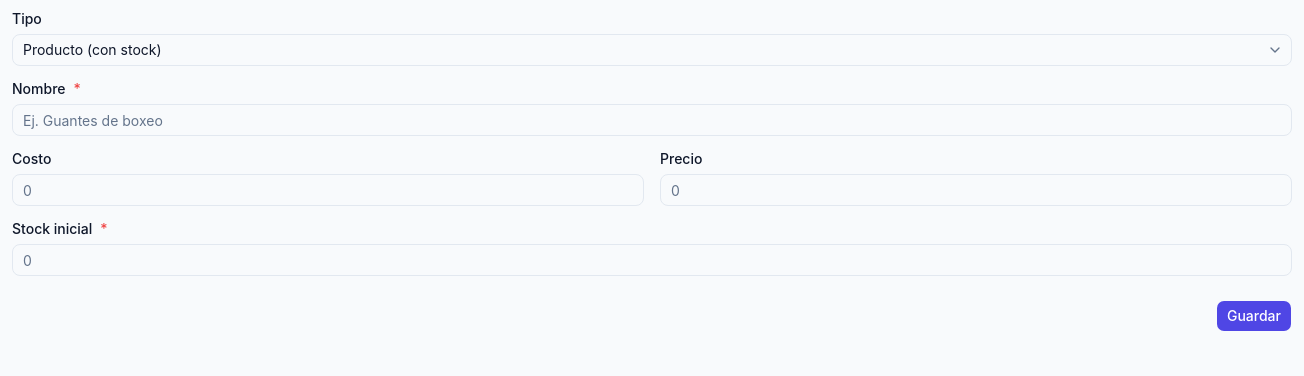
Scenario: InventoryForm — validación › bloquea el submit si falta el nombre
Type "5000" into the field labelled "Costo" at coordinates (328, 190), box [12,174,644,206]
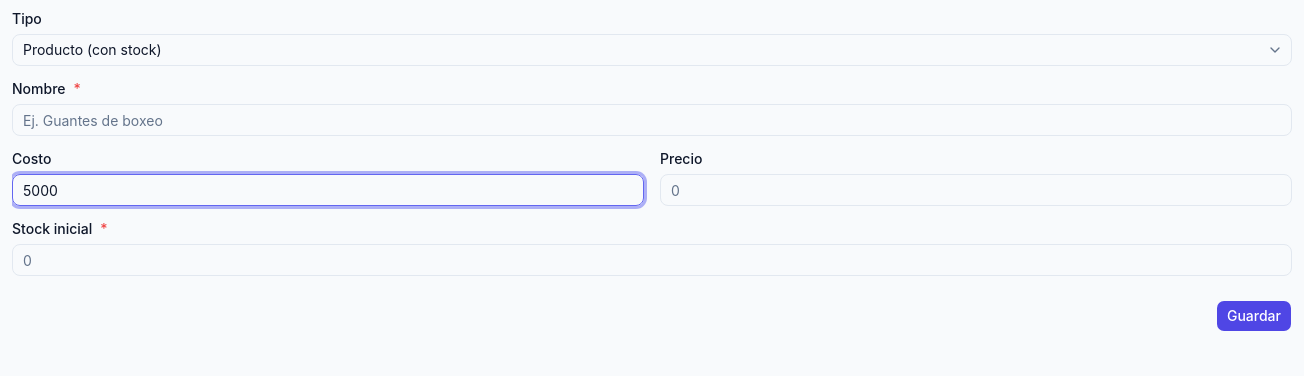
Type "10000" into the field labelled "Precio" at coordinates (976, 190), box [660,174,1292,206]
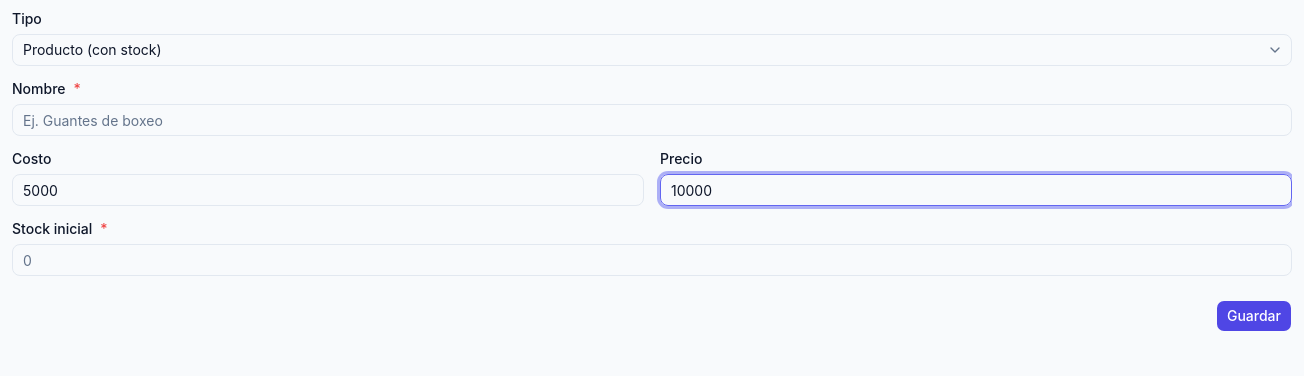
Type "10" into the field labelled "Stock inicial *" at coordinates (652, 260), box [12,244,1292,276]
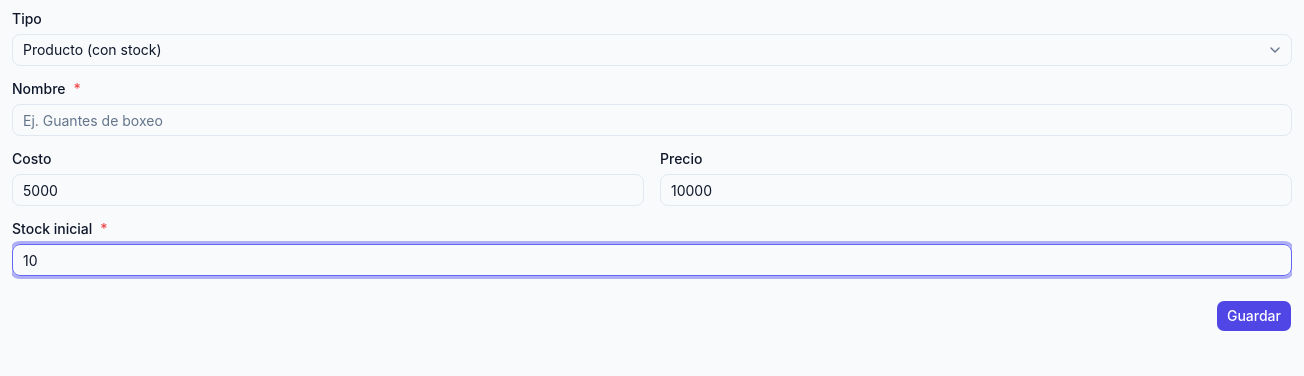
Click the button "Guardar" at coordinates (1254, 316), box [1216,300,1292,332]
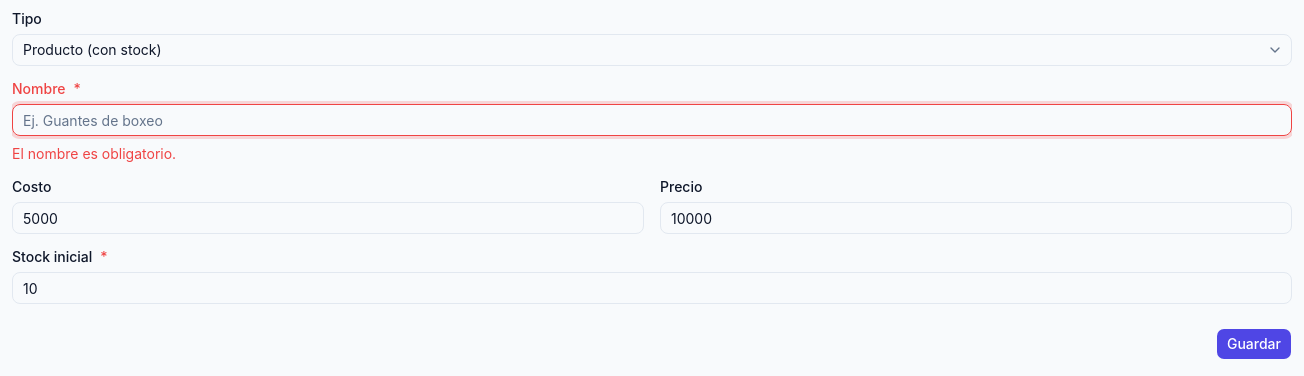
Expected: the text "El nombre es obligatorio." is shown, [12,145,176,162]
